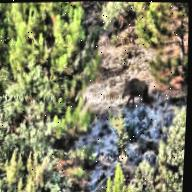boar: (113, 70, 159, 110)
